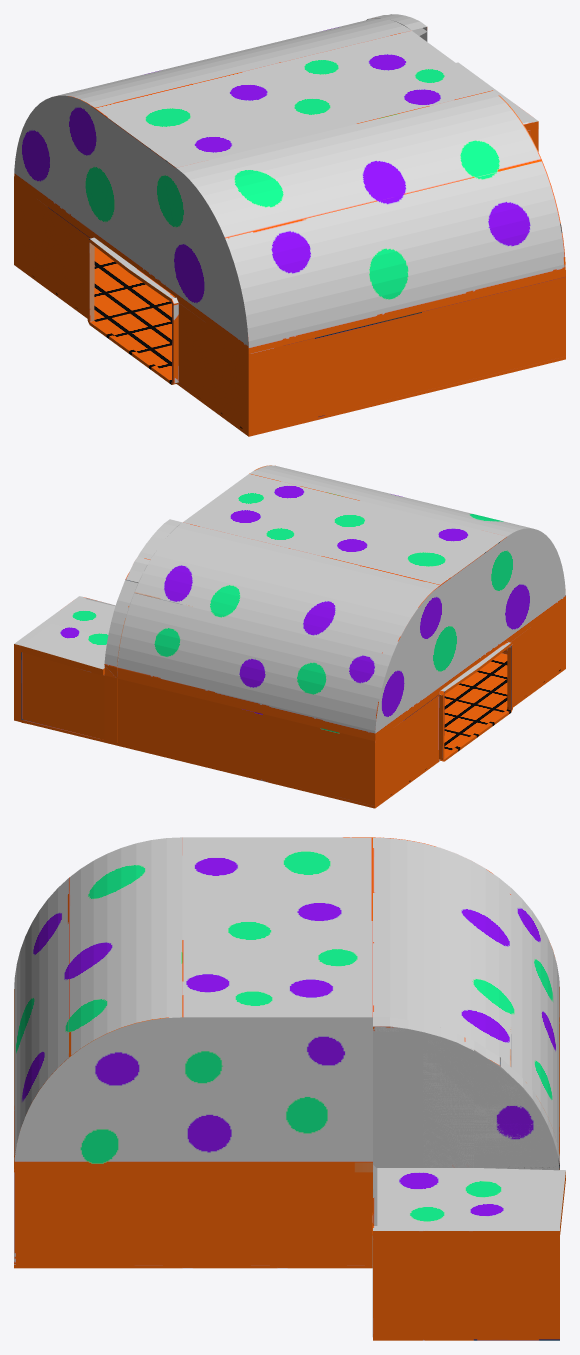
Rendered from Loja.fbx.
3 views of the same model, one above another, from view 1: azimuth 30°, elevation 25°; view 2: azimuth 150°, elevation 25°; view 3: azimuth 270°, elevation 25° (orthographic). The views are drawn at different scales.
Visible parts, largest first — view 1: Cube; view 2: Cube; view 3: Cube.
Part boxes in pixels (x1,y1,x2,y2): Cube: (14,14,565,436); Cube: (14,465,565,808); Cube: (14,837,565,1340).
Size of the model in its own units: 443 by 204 by 403.
1 material, 1 textured.
